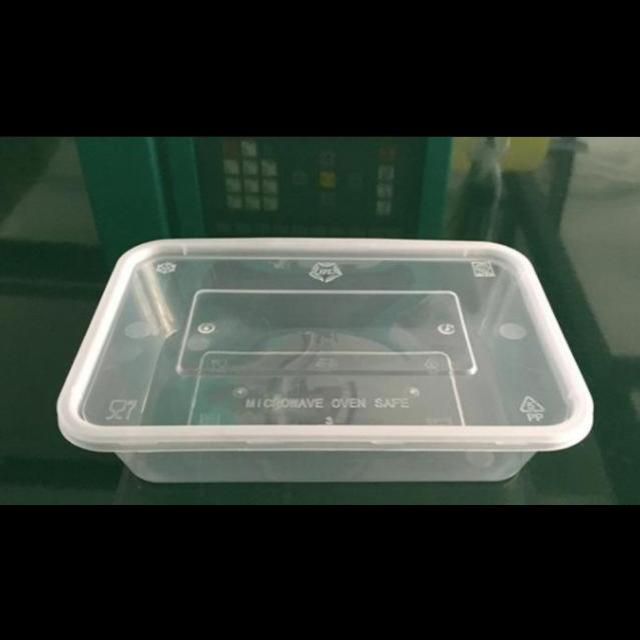plastic_box: (56, 235, 594, 480)
